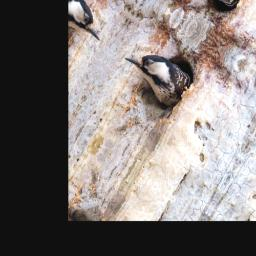Woodpecker: (116, 34, 195, 113)
